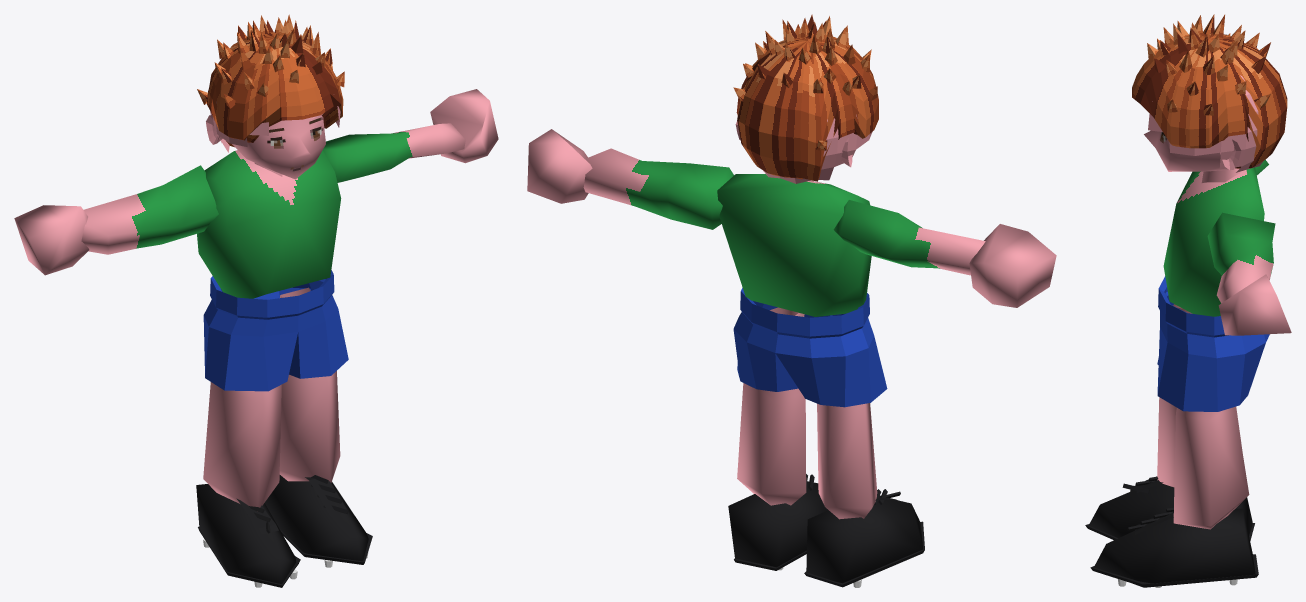
Rendered from 06-espetado-gel_ruivo.glb.
3 views of the same model, side by side, from view 1: azimuth 30°, elevation 25°; view 2: azimuth 150°, elevation 25°; view 3: azimuth 270°, elevation 25° (orthographic). The views are drawn at different scales.
Visible parts, largest first — view 1: Camisa_Tronco, Bermuda, Cabelo, Perna.R, Braco.R, Perna.L, Chuteira.R, Chuteira.L, Braco.L, Mao.R, Cabeca, Mao.L (+1 smaller); view 2: Camisa_Tronco, Cabelo, Bermuda, Perna.L, Braco.L, Chuteira.R, Perna.R, Braco.R, Mao.R, Chuteira.L, Mao.L, Couro_Cabeludo (+1 smaller); view 3: Cabelo, Bermuda, Chuteira.L, Camisa_Tronco, Perna.L, Braco.L, Mao.L, Chuteira.R, Couro_Cabeludo, Perna.R, Cabeca, Chuteira_Sola.L (+4 smaller).
Part boxes in pixels (bbox=[...]): Camisa_Tronco: bbox=[197, 150, 341, 298]; Bermuda: bbox=[203, 270, 348, 391]; Cabelo: bbox=[197, 14, 344, 147]; Perna.R: bbox=[203, 382, 281, 511]; Braco.R: bbox=[81, 165, 218, 254]; Perna.L: bbox=[279, 287, 340, 482]; Chuteira.R: bbox=[196, 484, 298, 584]; Chuteira.L: bbox=[264, 475, 368, 561]; Braco.L: bbox=[322, 123, 465, 182]; Mao.R: bbox=[14, 205, 89, 275]; Cabeca: bbox=[232, 113, 325, 179]; Mao.L: bbox=[430, 89, 498, 163]; Camisa_Tronco: bbox=[717, 174, 871, 316]; Cabelo: bbox=[733, 14, 878, 181]; Bermuda: bbox=[733, 288, 887, 407]; Perna.L: bbox=[737, 307, 806, 505]; Braco.L: bbox=[583, 148, 733, 229]; Chuteira.R: bbox=[806, 496, 922, 583]; Perna.R: bbox=[817, 403, 877, 519]; Braco.R: bbox=[833, 200, 985, 275]; Mao.R: bbox=[969, 224, 1056, 307]; Chuteira.L: bbox=[728, 481, 827, 567]; Mao.L: bbox=[527, 129, 592, 203]; Couro_Cabeludo: bbox=[749, 81, 872, 183]; Cabelo: bbox=[1132, 14, 1287, 168]; Bermuda: bbox=[1157, 276, 1269, 411]; Chuteira.L: bbox=[1094, 508, 1255, 587]; Camisa_Tronco: bbox=[1163, 167, 1264, 316]; Perna.L: bbox=[1173, 407, 1249, 529]; Braco.L: bbox=[1207, 212, 1275, 303]; Mao.L: bbox=[1218, 274, 1291, 335]; Chuteira.R: bbox=[1088, 480, 1252, 537]; Couro_Cabeludo: bbox=[1148, 75, 1263, 172]; Perna.R: bbox=[1157, 304, 1242, 487]; Cabeca: bbox=[1144, 130, 1234, 171]; Chuteira_Sola.L: bbox=[1090, 554, 1258, 587].
Bounding box in the file's own units: 0.4523 × 0.466 × 0.1617.
3 materials, 3 textured.
